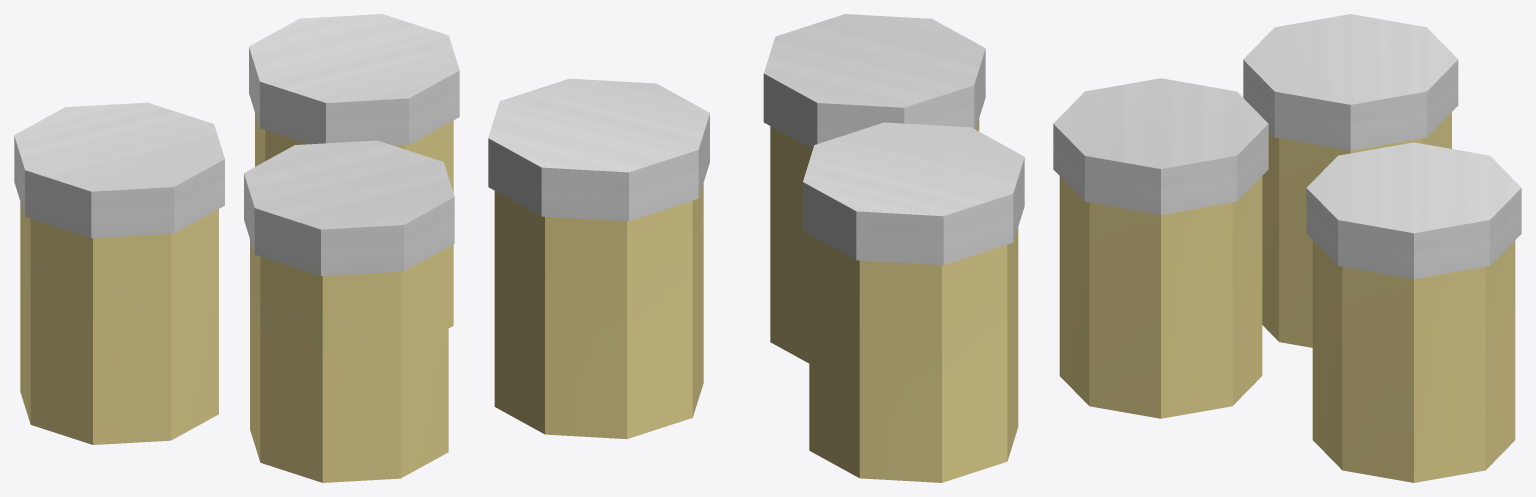
Rendered from food_jelly.obj.
The picture shows the model from 3 angles, left to right: view 1: azimuth 30°, elevation 25°; view 2: azimuth 150°, elevation 25°; view 3: azimuth 270°, elevation 25°; orthographic projection. The views are drawn at different scales.
Visible parts, largest first — view 1: food_jelly; view 2: food_jelly; view 3: food_jelly.
Part boxes in pixels (<box>): food_jelly: <box>14,14,459,482</box>; food_jelly: <box>488,14,1024,482</box>; food_jelly: <box>1053,14,1521,482</box>.
Bounding box in the file's own units: 0.41 × 0.22 × 0.37.
